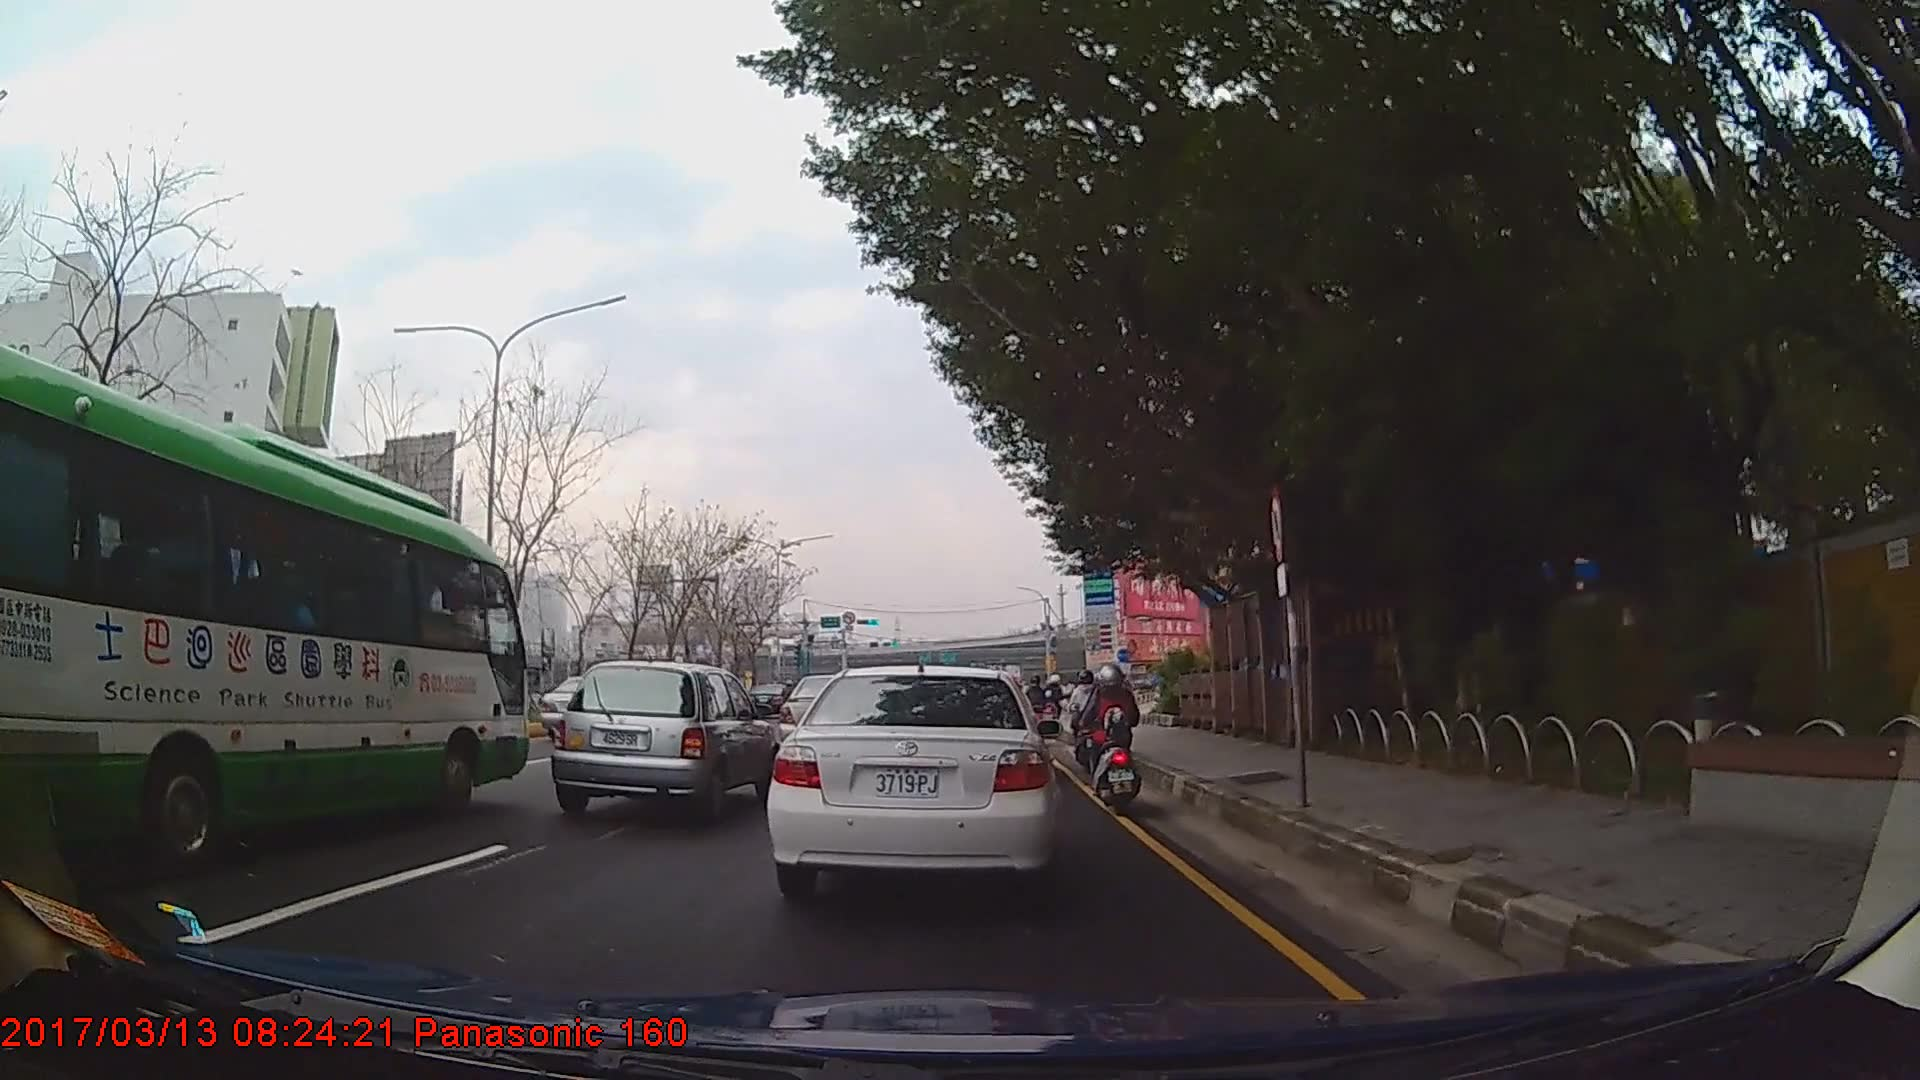rider: (1084, 660, 1147, 815), (1068, 670, 1108, 779), (1026, 676, 1051, 733)
vehicle: (0, 339, 526, 889), (766, 661, 1061, 898), (549, 660, 779, 827), (743, 682, 795, 717)
